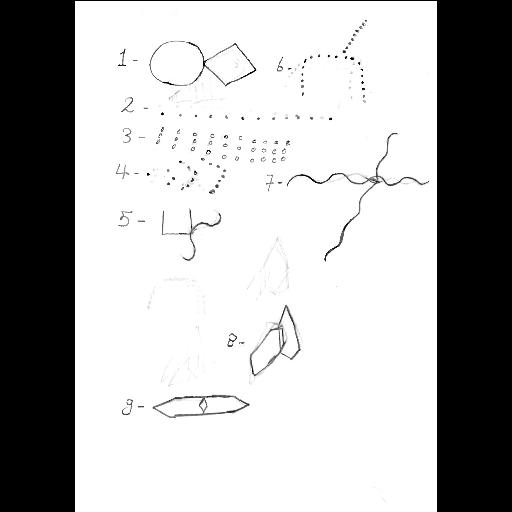shape-1: (147, 36, 257, 88)
shape-2: (154, 104, 334, 124)
shape-3: (155, 122, 291, 162)
shape-4: (144, 156, 228, 194)
shape-5: (158, 208, 222, 260)
shape-6: (300, 12, 372, 104)
shape-7: (286, 130, 430, 262)
shape-8: (250, 302, 302, 378)
shape-9: (153, 392, 253, 420)
